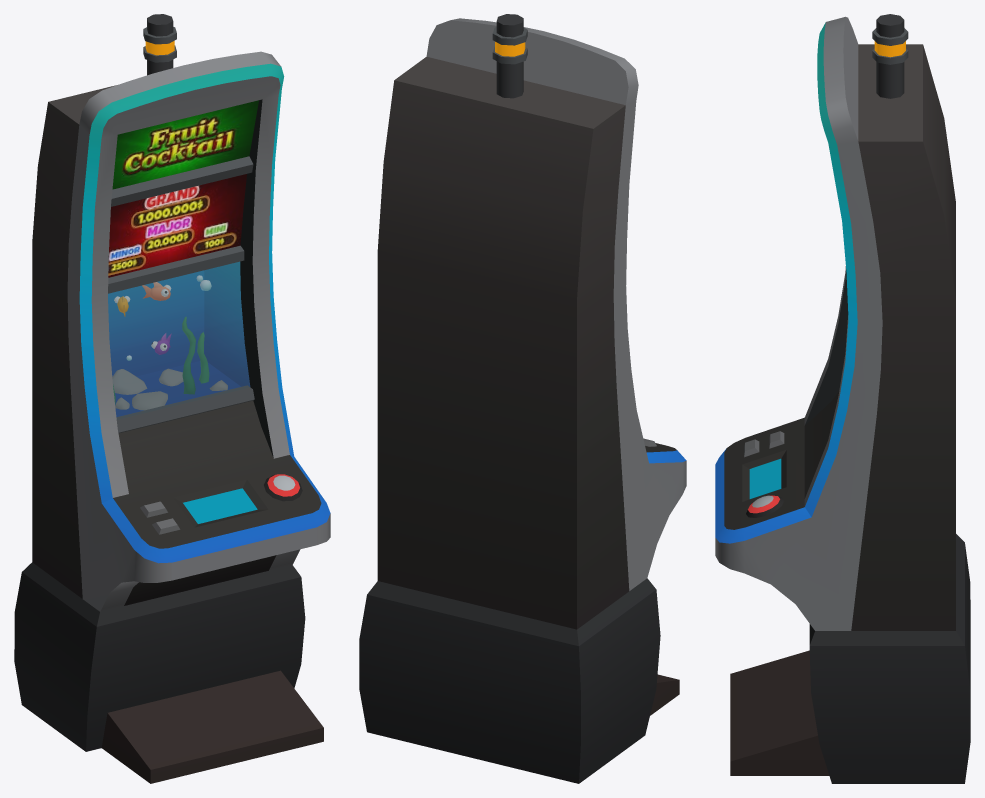
The model's file is Slot_Machine_Aquarium_01.glb.
3 renders of one model, left to right at view 1: azimuth 30°, elevation 25°; view 2: azimuth 150°, elevation 25°; view 3: azimuth 270°, elevation 25°, orthographic. The views are drawn at different scales.
Parts seen in each view (by area): view 1: Slot_Machine_Aquarium_01, Slot_Machine_Aquarium_Fish_01; view 2: Slot_Machine_Aquarium_01; view 3: Slot_Machine_Aquarium_01.
Part boxes in pixels (bbox=[...]): Slot_Machine_Aquarium_01: bbox=[14, 14, 330, 783]; Slot_Machine_Aquarium_Fish_01: bbox=[114, 282, 171, 354]; Slot_Machine_Aquarium_01: bbox=[359, 14, 686, 783]; Slot_Machine_Aquarium_01: bbox=[715, 14, 970, 783].
Bounding box in the file's own units: 0.8624 × 2.64 × 0.8581.
4 materials, 4 textured.
